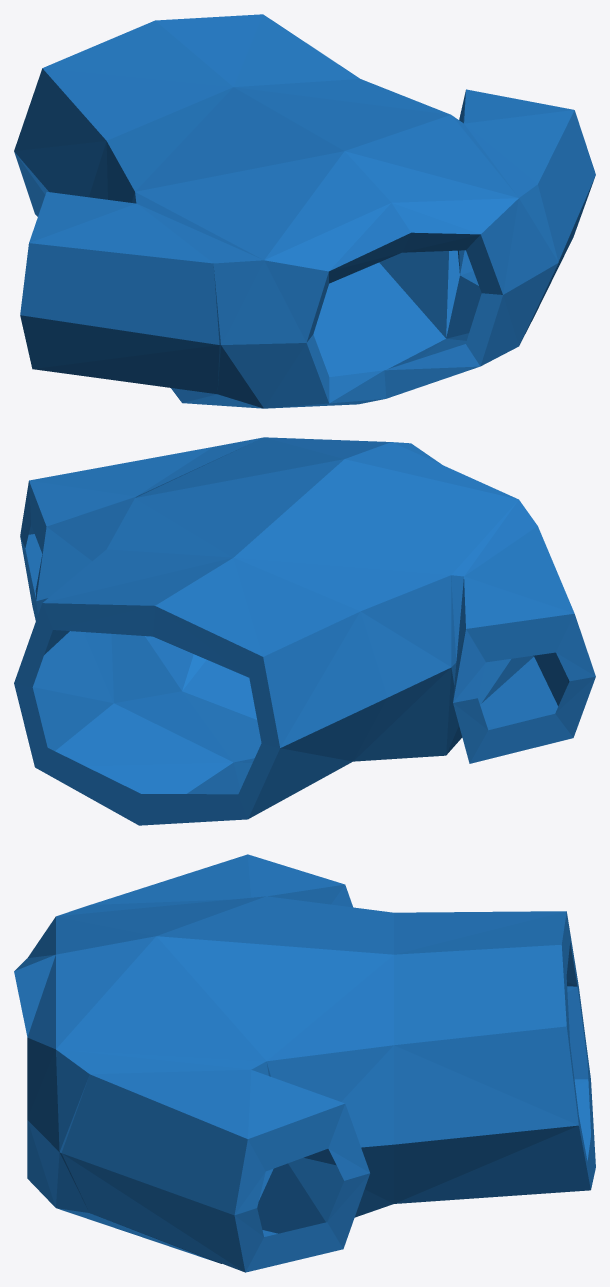
File: tee.obj
3 renders of one model, top to bottom at view 1: azimuth 30°, elevation 25°; view 2: azimuth 150°, elevation 25°; view 3: azimuth 270°, elevation 25°, orthographic. The views are drawn at different scales.
Parts seen in each view (by area): view 1: shirt1; view 2: shirt1; view 3: shirt1.
Part boxes in pixels (box(x1,y1,x2,y2)): shirt1: box(14, 14, 595, 408); shirt1: box(14, 437, 595, 825); shirt1: box(14, 854, 595, 1272).
Bounding box in the file's own units: 3.26 × 1.45 × 2.67.
